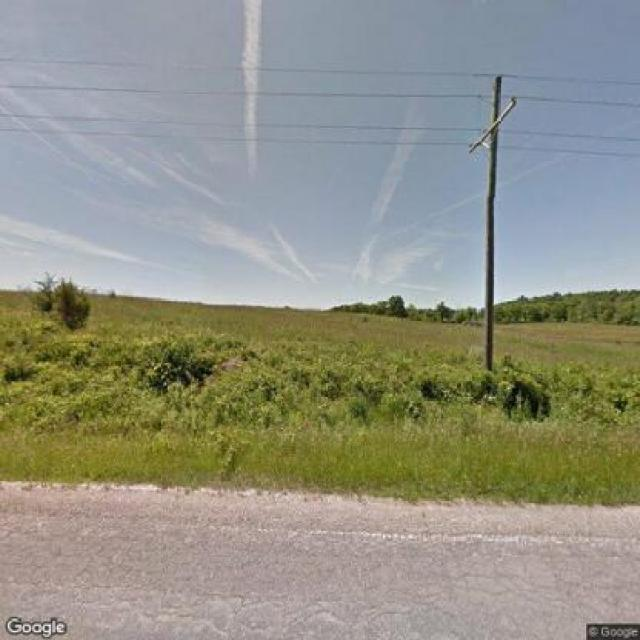pole: (465, 72, 530, 360)
